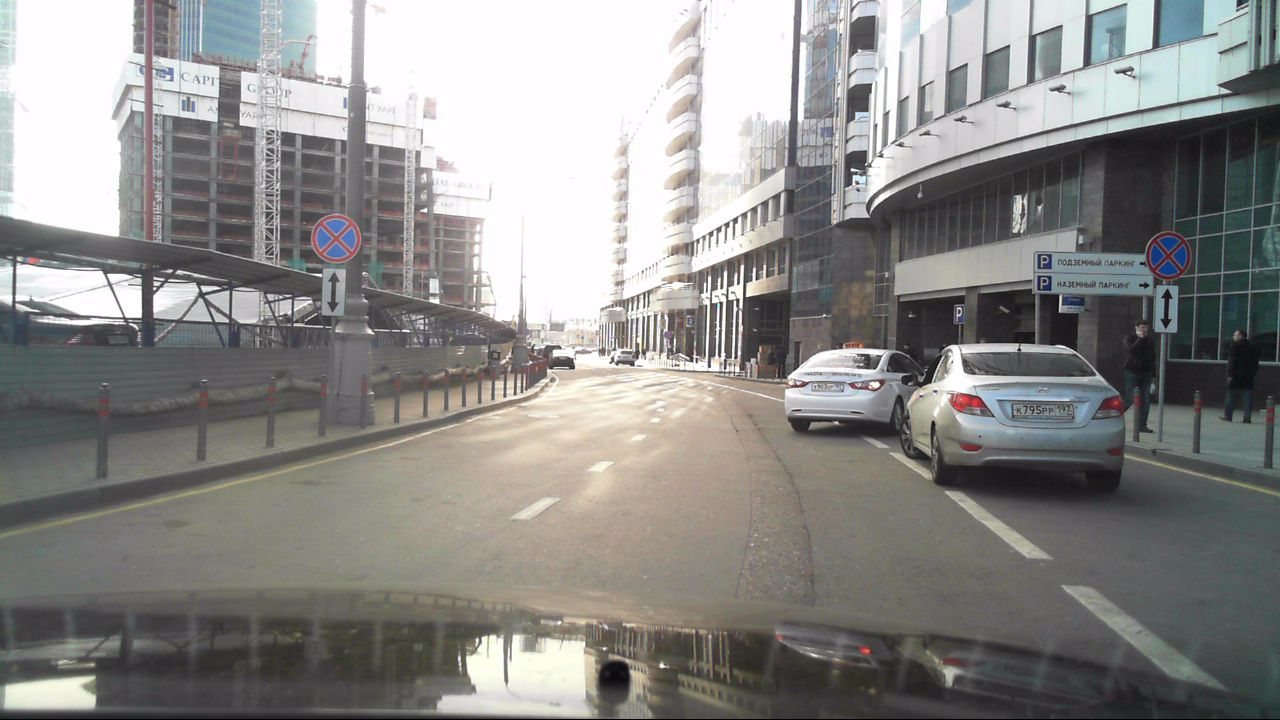No Parking: (1144, 230, 1192, 281)
